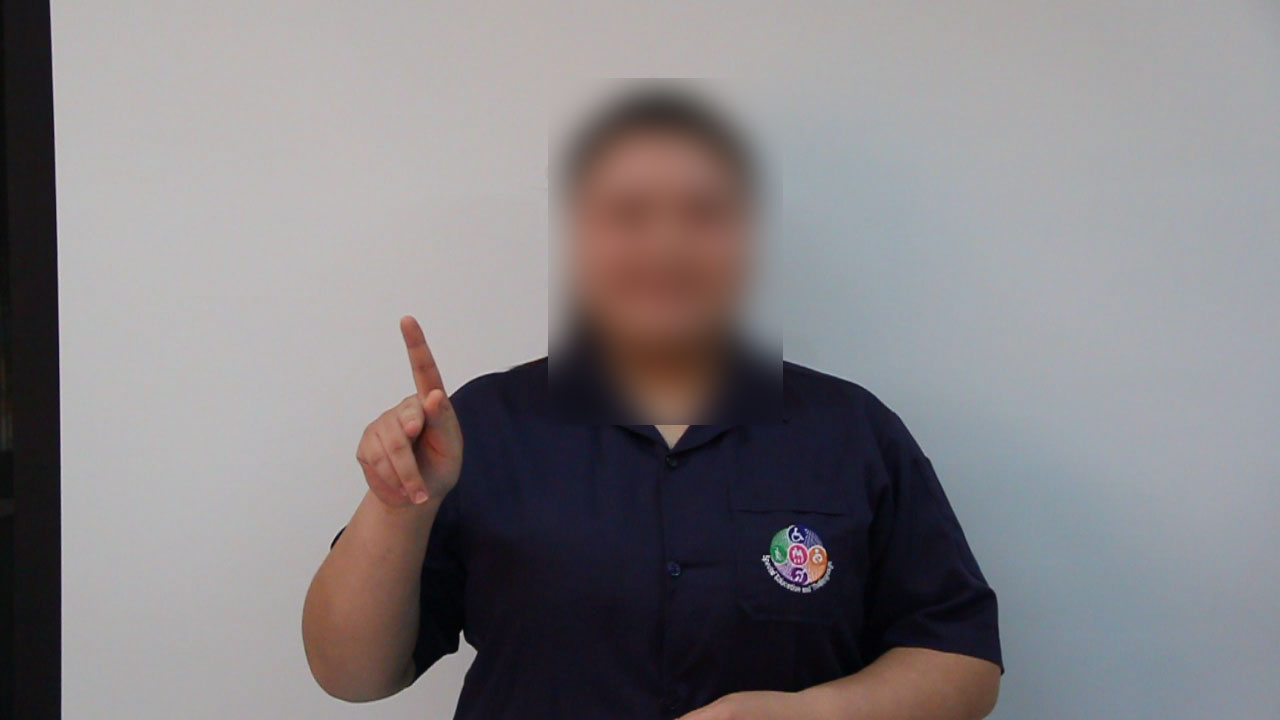ko: (324, 311, 478, 524)
